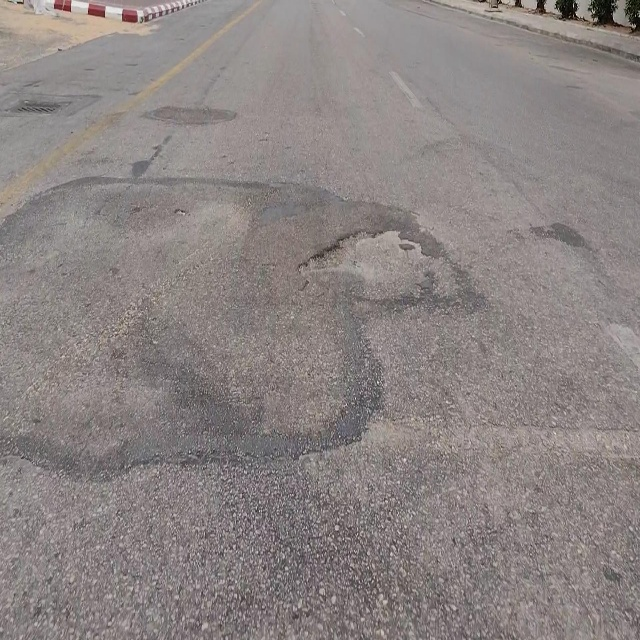pothole: (304, 226, 433, 285)
